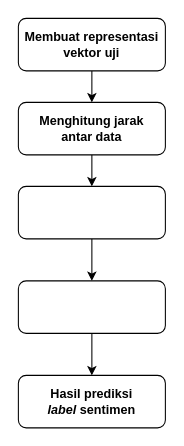
Some shapes in this 184 by 446 pixel diagram are drawn without their labels. The centre of each missing label's shape, as x and y in pixels:
Mencari K tetangga terdekat: the point at 91,212
Menghitung probabilitas tiap label: the point at 91,306
